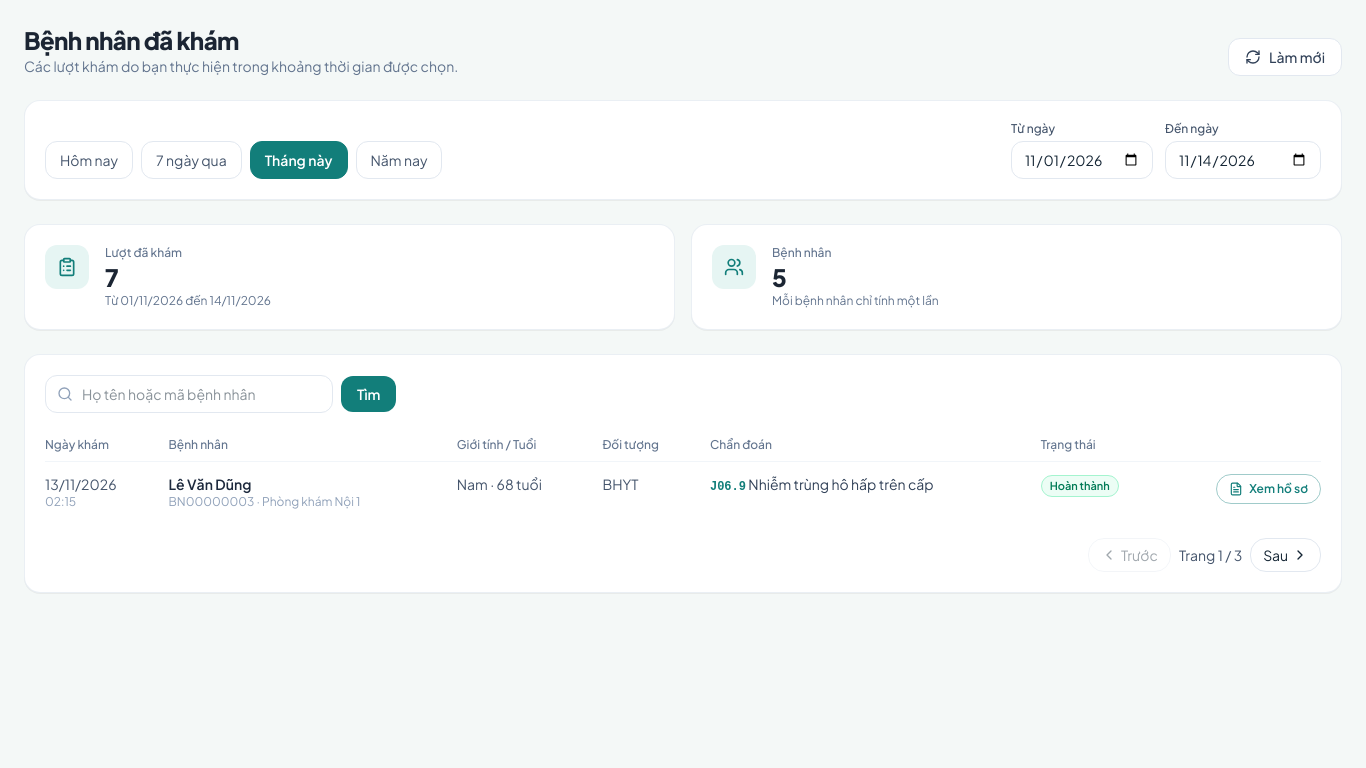
Scenario: ExaminedPatientsPage (UC-34) › pages through a long list
The width and height of the screenshot is (1366, 768).
Expected: the text "Trang 1 / 3" is shown, top-left (1179, 545), bottom-right (1242, 565)
Expected: the button "Trước" is disabled, top-left (1088, 538), bottom-right (1171, 572)
Click the button "Sau": (1286, 555) top-left (1250, 538), bottom-right (1321, 572)
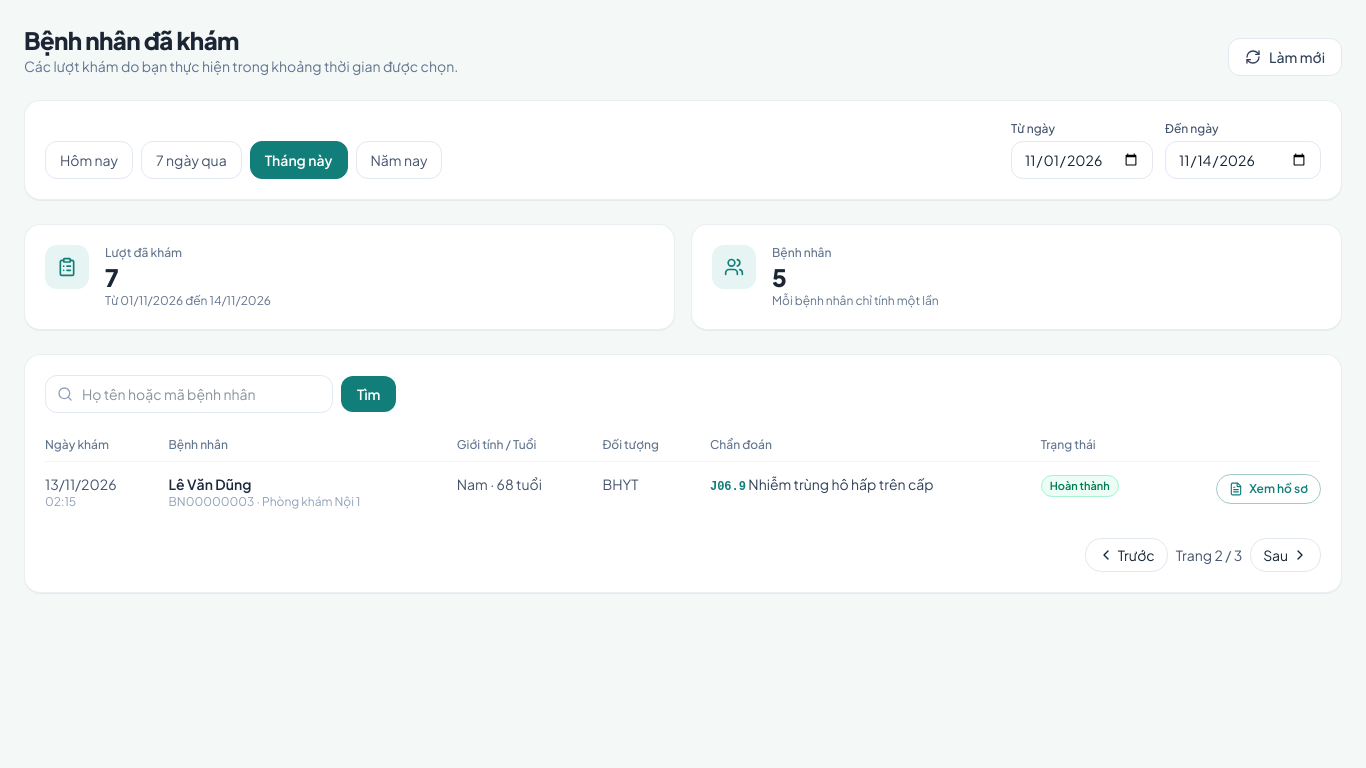
Expected: the text "Trang 2 / 3" is shown, top-left (1176, 545), bottom-right (1242, 565)
